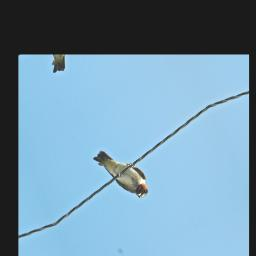Swallow: (90, 136, 153, 213)
